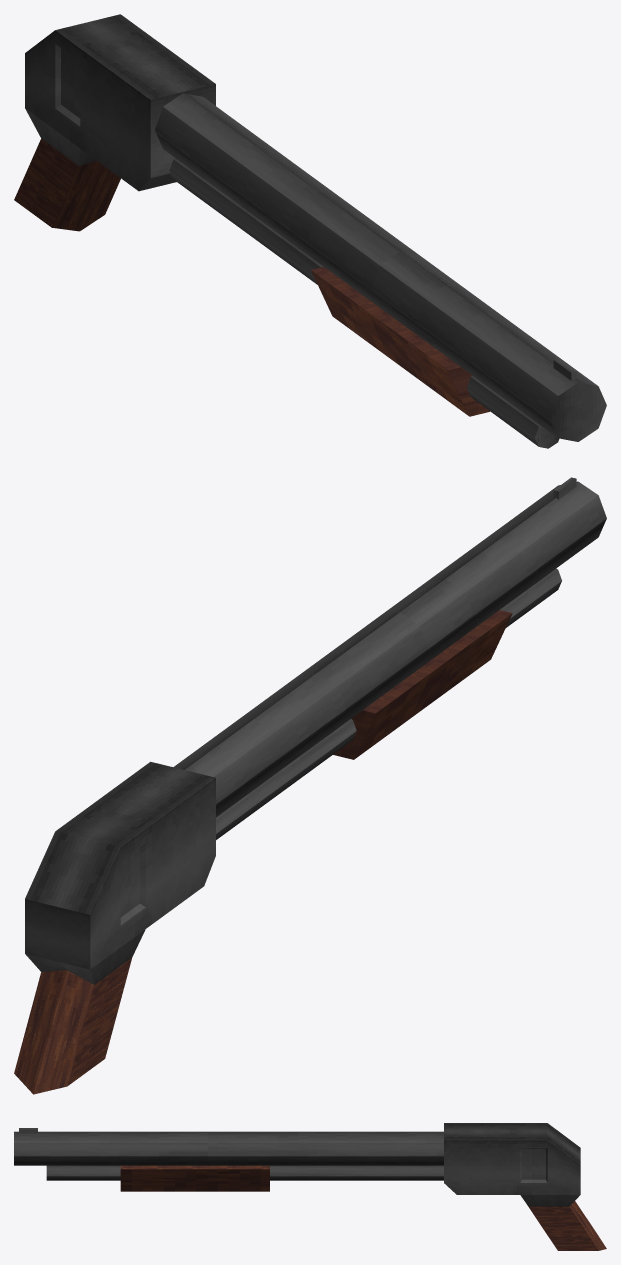
File: shotgun.glb
The picture shows the model from 3 angles, top to bottom: view 1: azimuth 30°, elevation 25°; view 2: azimuth 150°, elevation 25°; view 3: azimuth 270°, elevation 25°; orthographic projection. The views are drawn at different scales.
Parts seen in each view (by area): view 1: Cube; view 2: Cube; view 3: Cube.
Boxes of the visible parts, box(x1,y1,x2,y2) form: Cube: box(14, 14, 606, 448); Cube: box(14, 477, 606, 1094); Cube: box(14, 1123, 606, 1250).
Bounding box in the file's own units: 0.7926 × 2.56 × 11.44.
Materials: 2 (2 with a texture image).
